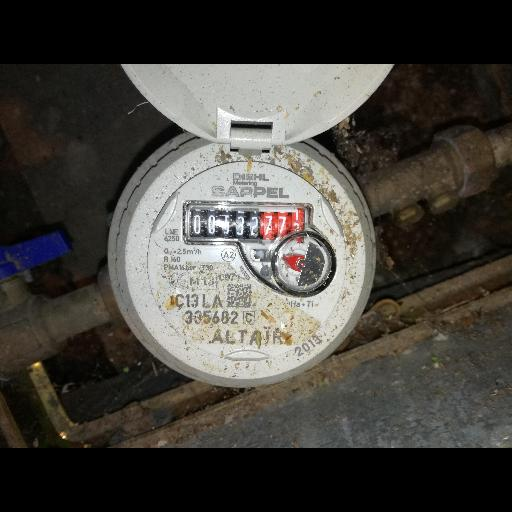0: (206, 209, 218, 237), (192, 209, 202, 237)
2: (289, 208, 305, 234), (249, 211, 261, 240)
3: (235, 211, 247, 239)
5: (222, 211, 233, 238)
7: (260, 212, 276, 240), (275, 212, 290, 240)
border_water_meter_number: (183, 201, 314, 248)
